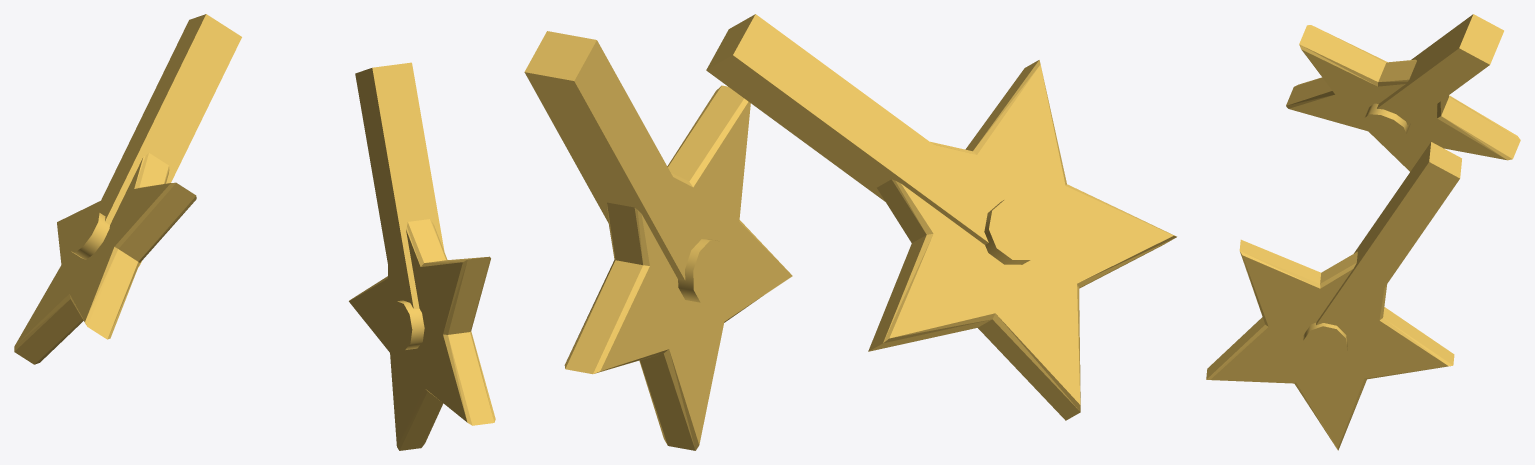
The model's file is spurs.star-rowels.glb.
3 views of the same model, side by side, from view 1: azimuth 30°, elevation 25°; view 2: azimuth 150°, elevation 25°; view 3: azimuth 270°, elevation 25° (orthographic). The views are drawn at different scales.
Parts seen in each view (by area): view 1: FootL, FootR; view 2: FootR, FootL; view 3: FootL, FootR.
Boxes of the visible parts, bbox=[...] form: FootL: bbox=[349, 62, 495, 450]; FootR: bbox=[14, 14, 241, 364]; FootR: bbox=[706, 14, 1176, 420]; FootL: bbox=[524, 31, 792, 450]; FootL: bbox=[1206, 142, 1461, 450]; FootR: bbox=[1286, 14, 1520, 171].
Size of the model in its own units: 0.096 by 0.095 by 0.0723.
